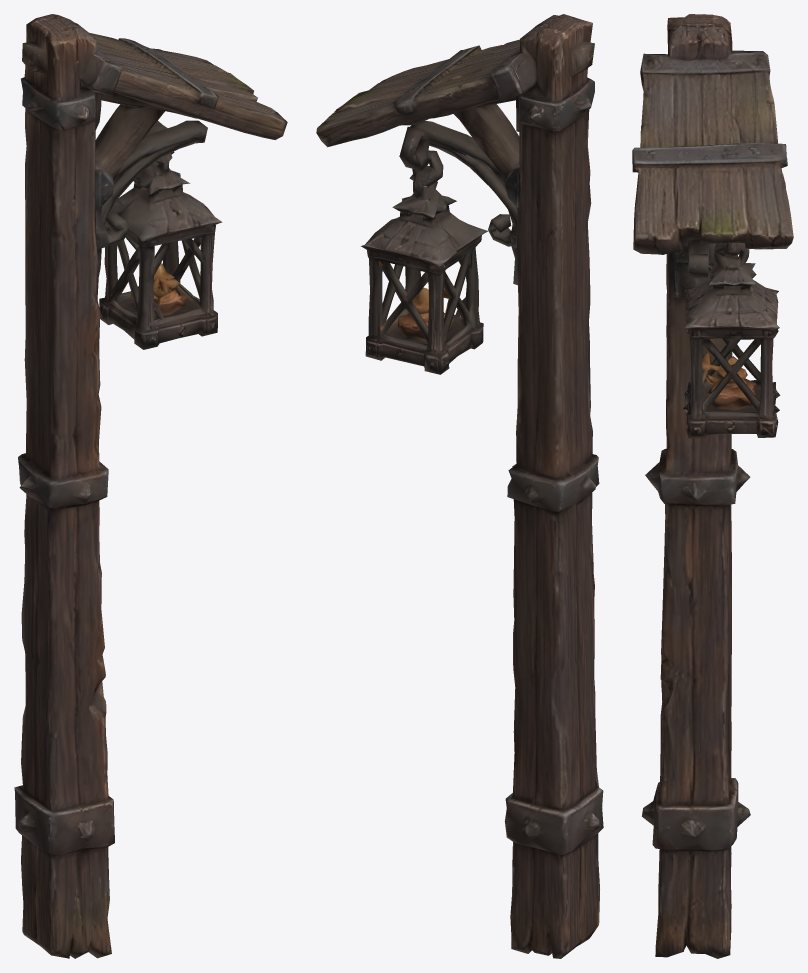
The model's file is farol-camino.glb.
The picture shows the model from 3 angles, left to right: view 1: azimuth 30°, elevation 25°; view 2: azimuth 150°, elevation 25°; view 3: azimuth 270°, elevation 25°; orthographic projection.
Visible parts, largest first — view 1: tripo_node_6f6601bc-f082-4c84-9990-64566e6e5377; view 2: tripo_node_6f6601bc-f082-4c84-9990-64566e6e5377; view 3: tripo_node_6f6601bc-f082-4c84-9990-64566e6e5377.
Boxes of the visible parts, <box> form: tripo_node_6f6601bc-f082-4c84-9990-64566e6e5377: <box>14,14,287,958</box>; tripo_node_6f6601bc-f082-4c84-9990-64566e6e5377: <box>316,14,603,958</box>; tripo_node_6f6601bc-f082-4c84-9990-64566e6e5377: <box>632,14,793,958</box>.
Size of the model in its own units: 0.2699 by 1 by 0.1587.
1 material, 1 textured.
